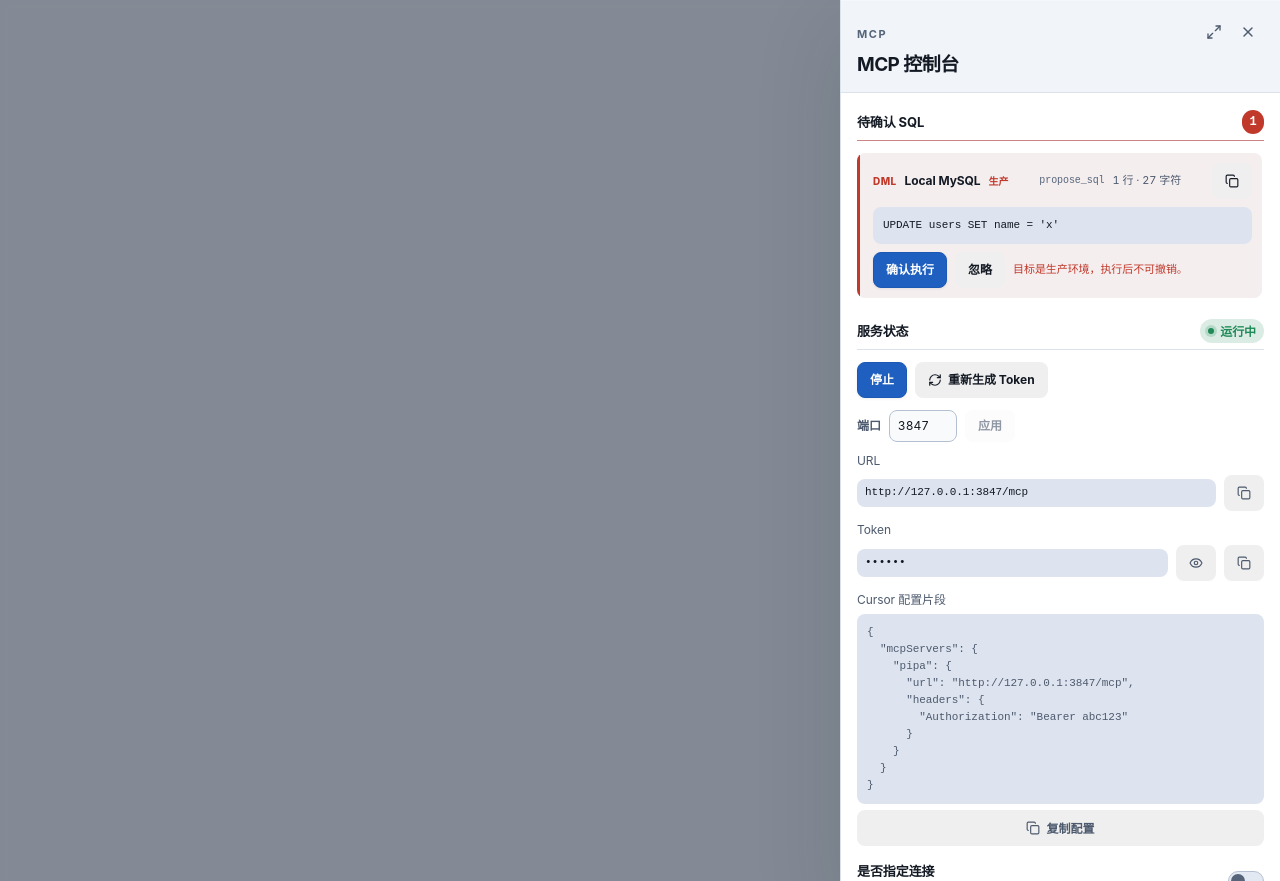
Scenario: McpPanel › explains why an invalid port was rejected
Expected: the button "应用" is disabled, [965,410,1015,442]
Replace the text in the number field labelled "端口" with "70000" at [923, 426], box [889,410,957,442]
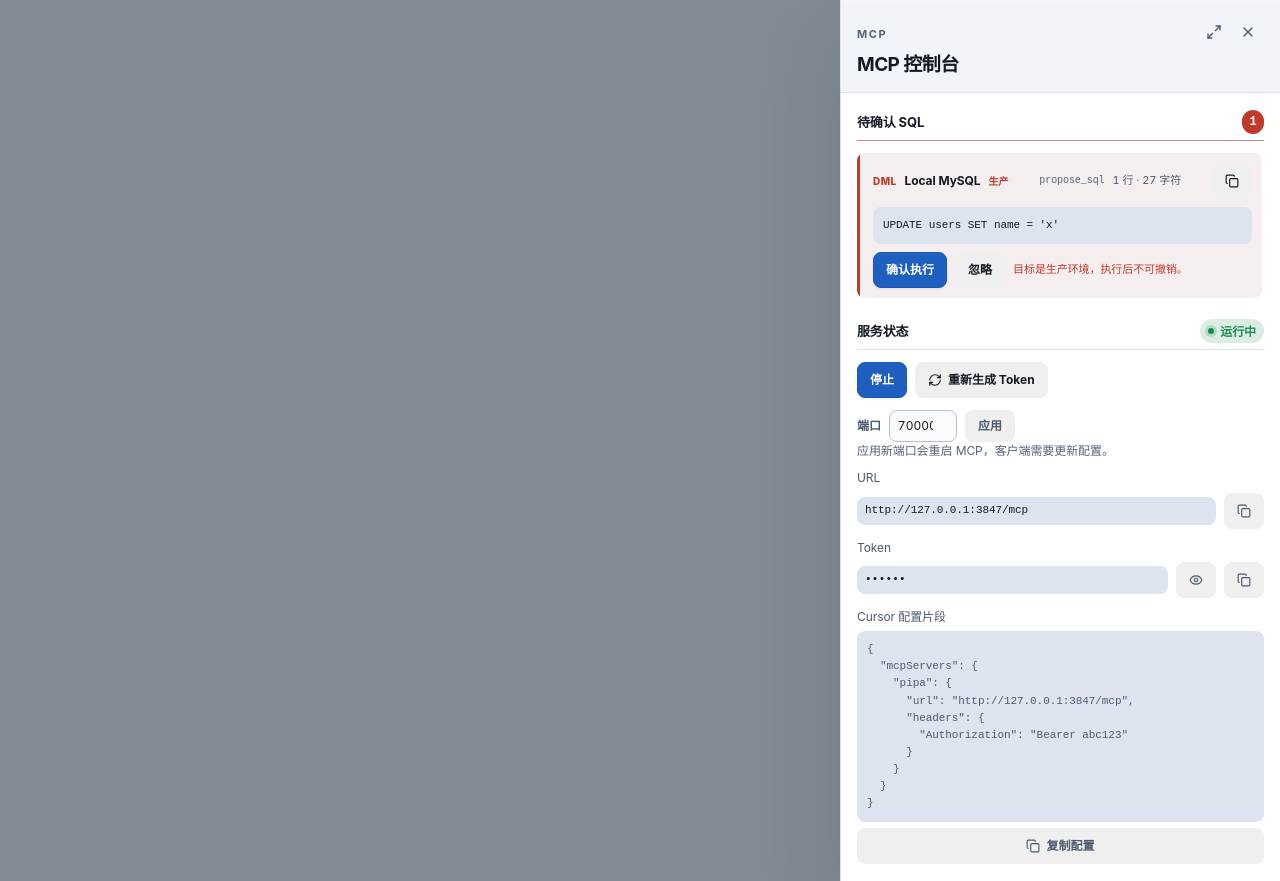
Click the button "应用" at [990, 426], box [965,410,1015,442]
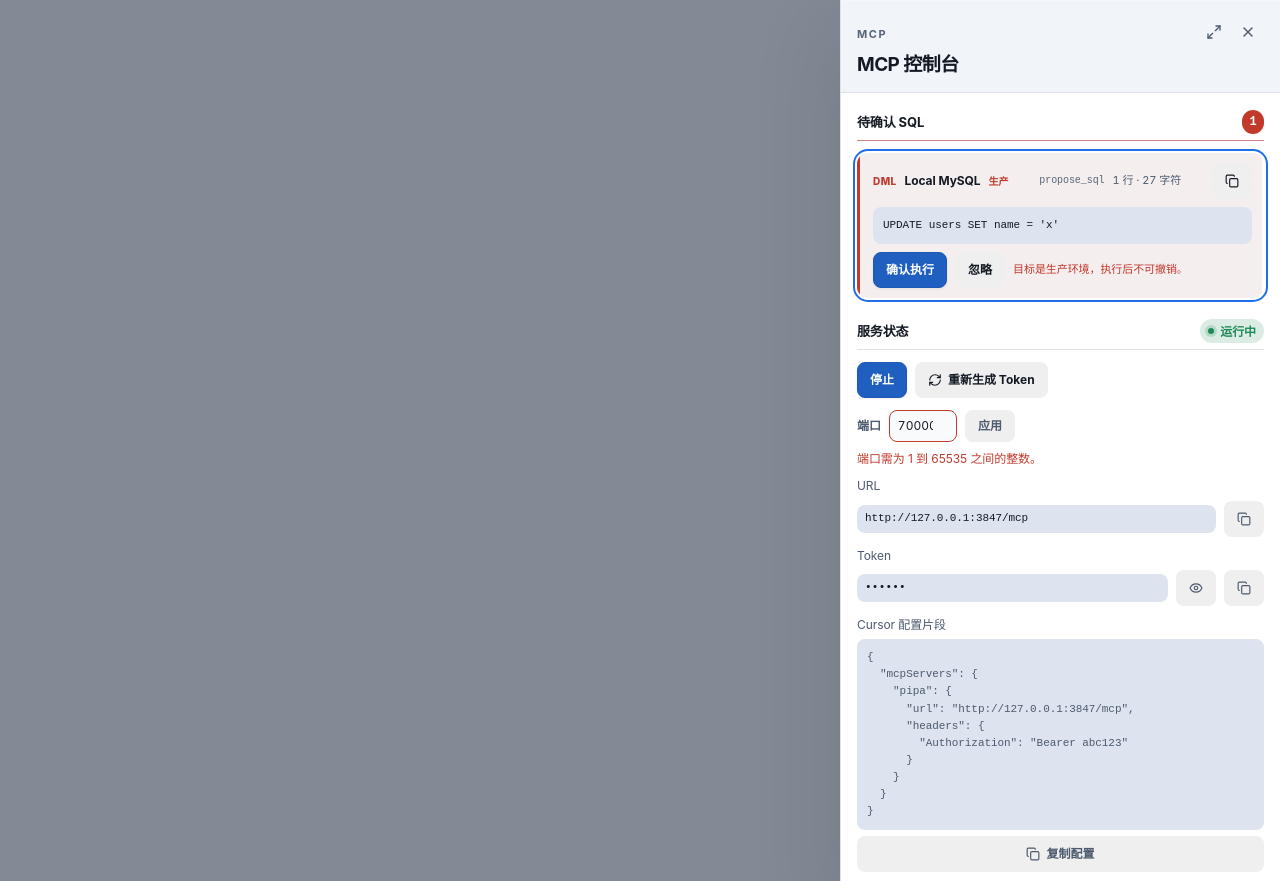
Expected: the message reads "端口需为 1 到 65535 之间的整数。", [857,451,1042,466]
